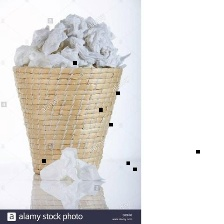tissue: (8, 7, 135, 75), (33, 141, 109, 187)
